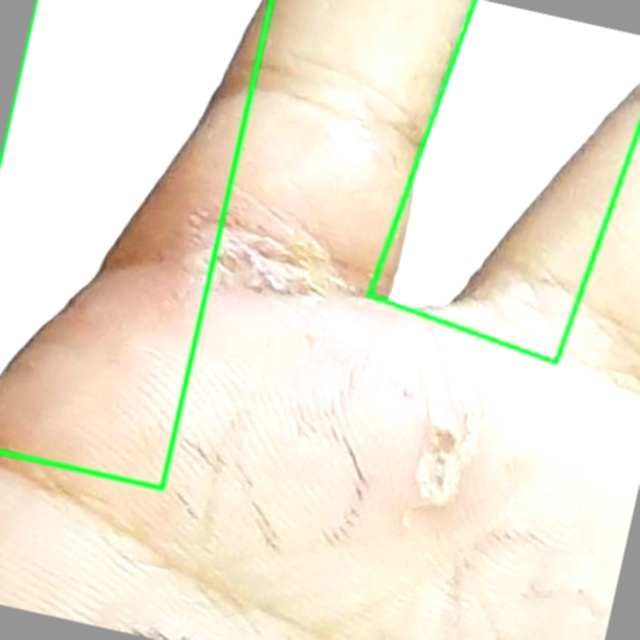Scabies: (0, 0, 271, 488), (369, 0, 639, 362)
